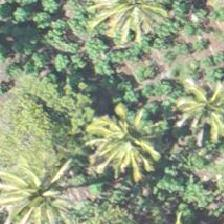Kelapa_Sawit: (86, 98, 176, 188), (3, 150, 94, 223), (161, 67, 223, 158), (84, 0, 174, 53)
